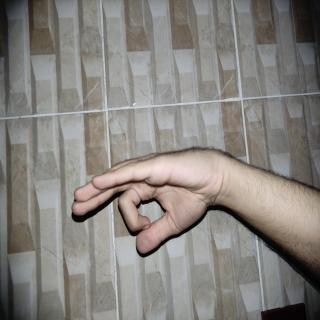Space: (41, 86, 144, 320)
